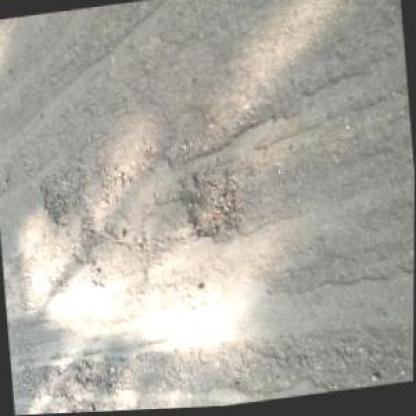pothole: (176, 164, 246, 250), (36, 166, 76, 229)
